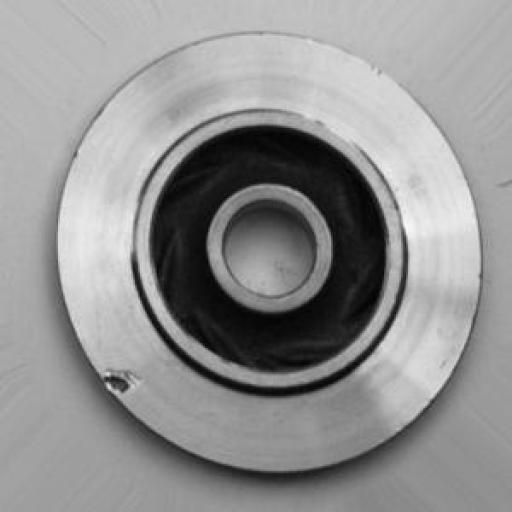defect: (92, 358, 184, 424)
